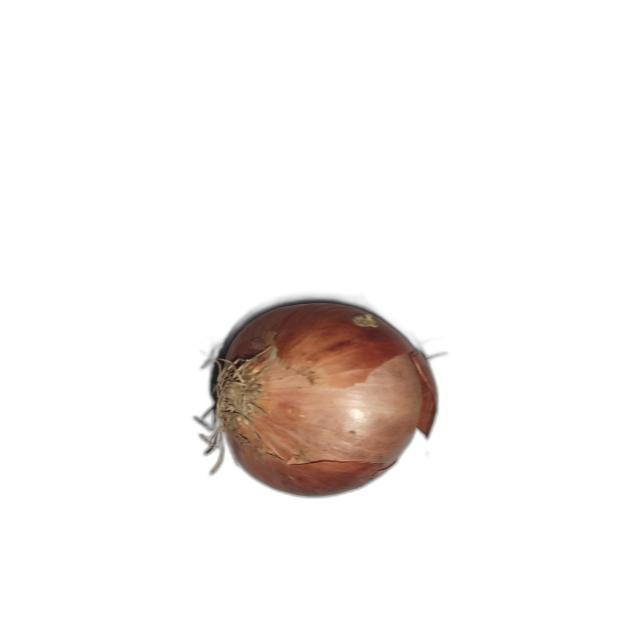onion: (197, 303, 440, 498)
